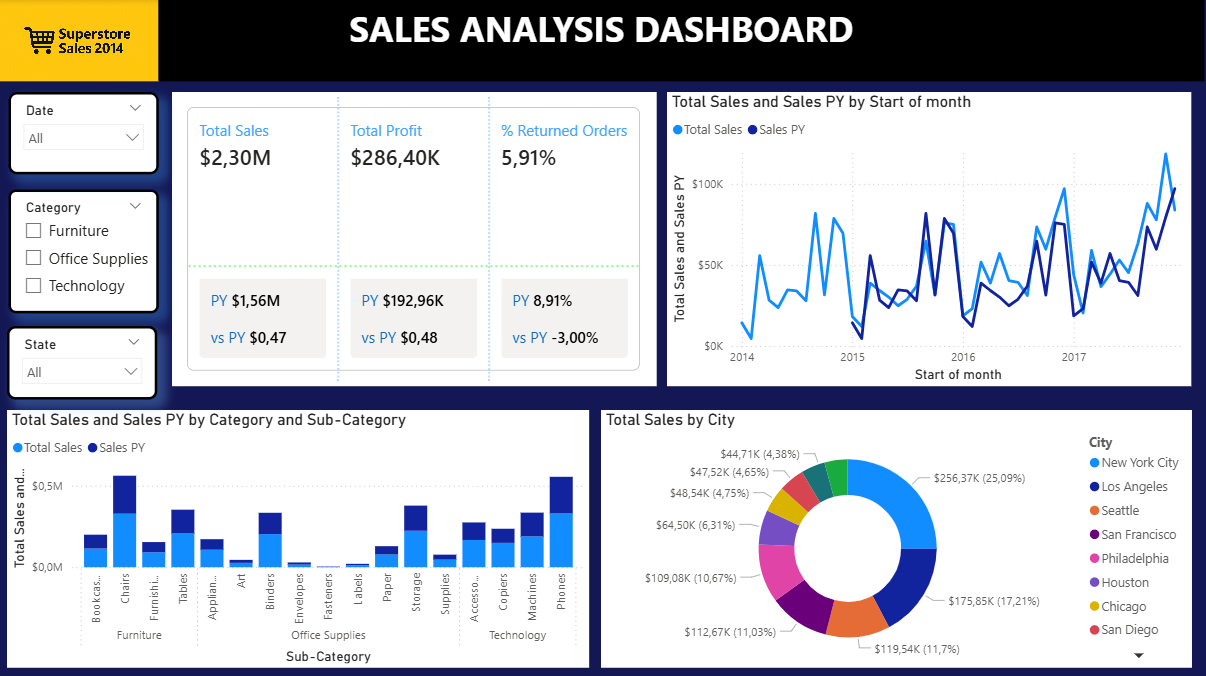

The page's visual inventory and layout, read from the dashboard file:
{"tool":"powerbi","page":{"name":"Sales Analysis","canvas":[1280,720],"ordinal":0},"visuals":[{"type":"cardVisual","fields":{"Data":["key Measures.Total Sales","key Measures.Total Profit","key Measures.% Returned Orders"]},"box":[184.5,98.2,513.7,311.9],"z":0},{"type":"textbox","box":[0,0,1279.6,87.6],"z":1000},{"type":"lineChart","fields":{"Y":["key Measures.Total Sales","key Measures.Sales PY"],"Category":["Date Table.Start of month"]},"box":[710.1,98.2,556.2,311.9],"z":2000},{"type":"columnChart","fields":{"Y":["key Measures.Total Sales","key Measures.Sales PY"],"Category":["Orders.Category","Orders.Sub-Category"]},"box":[9.3,435.4,617.2,273.4],"z":3000},{"type":"donutChart","fields":{"Category":["Orders.City"],"Y":["key Measures.Total Sales"]},"box":[639.8,435.4,626.5,273.4],"z":4000},{"type":"slicer","fields":{"Values":["Orders.Category"]},"box":[10.6,201.8,159.3,131.4],"z":5000},{"type":"slicer","fields":{"Values":["Date Table.Date"]},"box":[10.6,98.2,159.3,87.6],"z":6000},{"type":"slicer","fields":{"Values":["Orders.State"]},"box":[9.3,346.4,159.3,78.3],"z":7000},{"type":"image","box":[0,0,169.9,87.6],"z":8000}]}

Visuals, with their boxes in screenshot pixels (x1, y1, x2, y2), scaled from the page's 1280x720 canvas onto the 1206x676 screenshot:
cardVisual - key Measures.Total Sales x key Measures.Total Profit: (left=174, top=92, right=658, bottom=385)
textbox: (left=0, top=0, right=1205, bottom=82)
lineChart - key Measures.Total Sales x key Measures.Sales PY: (left=669, top=92, right=1193, bottom=385)
columnChart - key Measures.Total Sales x key Measures.Sales PY: (left=9, top=409, right=590, bottom=665)
donutChart - Orders.City x key Measures.Total Sales: (left=603, top=409, right=1193, bottom=665)
slicer - Orders.Category: (left=10, top=189, right=160, bottom=313)
slicer - Date Table.Date: (left=10, top=92, right=160, bottom=174)
slicer - Orders.State: (left=9, top=325, right=159, bottom=399)
image: (left=0, top=0, right=160, bottom=82)
